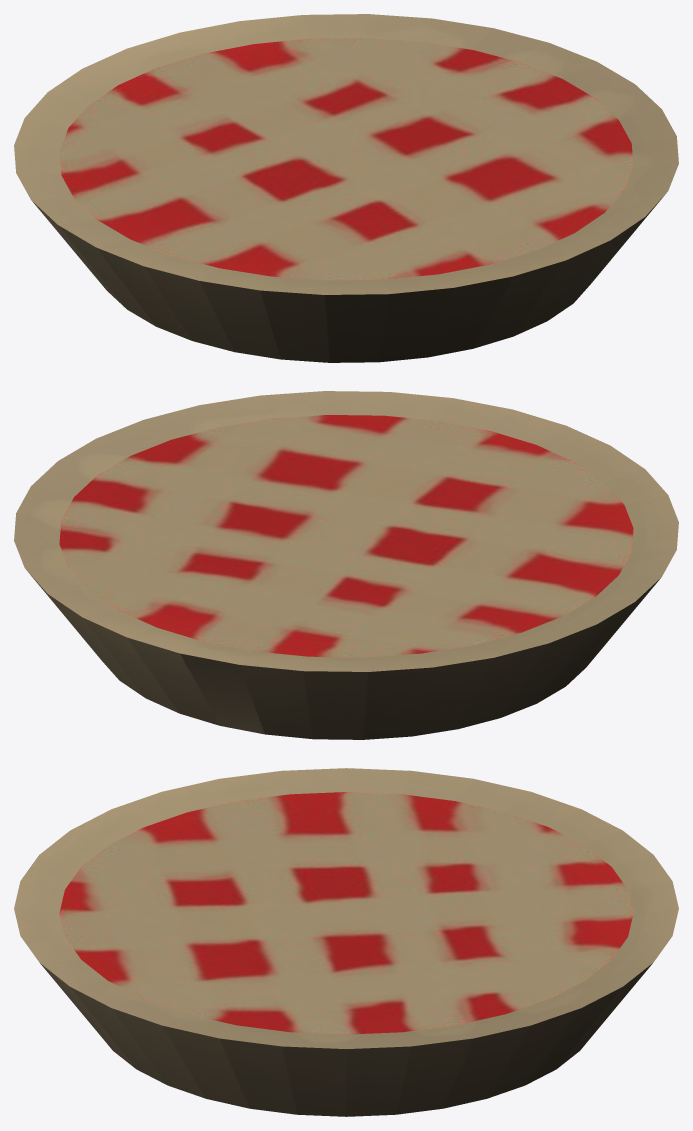
The model's file is raspberrypie3.dae.
3 renders of one model, top to bottom at view 1: azimuth 30°, elevation 25°; view 2: azimuth 150°, elevation 25°; view 3: azimuth 270°, elevation 25°, orthographic.
Visible parts, largest first — view 1: Cylinder; view 2: Cylinder; view 3: Cylinder.
Part boxes in pixels (left/top/right/bottom): Cylinder: left=14, top=14, right=678, bottom=362; Cylinder: left=14, top=391, right=678, bottom=739; Cylinder: left=14, top=768, right=678, bottom=1116.
Size of the model in its own units: 2.8 by 2.8 by 0.4719.
1 material, 1 textured.
